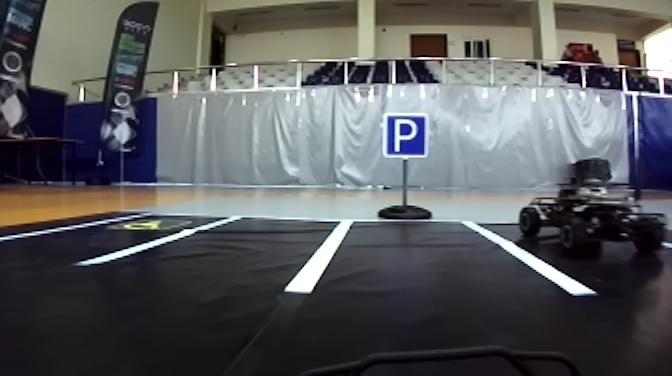park: (383, 110, 431, 161)
